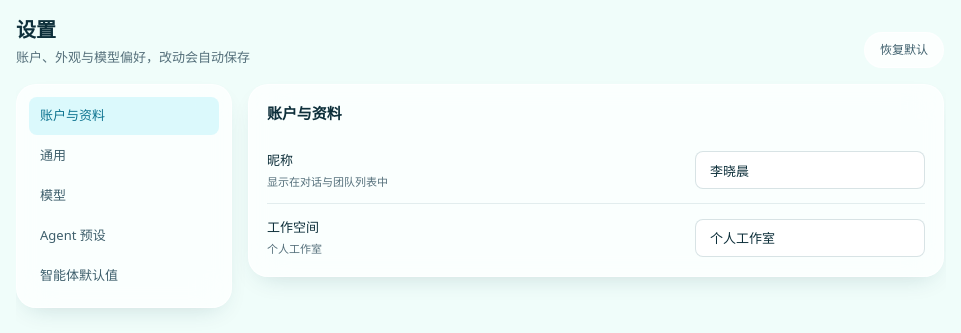
Test: editing a field marks the form dirty and reset clears it
Check: the heading "设置" is shown, box [16, 16, 56, 43]
Check: the button "恢复默认" is disabled, box [864, 32, 944, 68]
Replace the text in the field named "昵称" in the row of "显示在对话与团队列表中" with "张三" at (810, 170), box [695, 151, 925, 189]
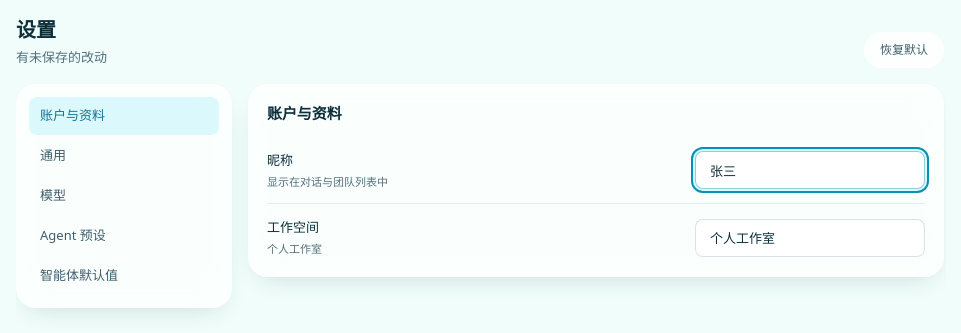
Check: the text "有未保存的改动" is shown, box [16, 48, 107, 66]
Click the button "恢复默认".
click(904, 50)  # box [864, 32, 944, 68]
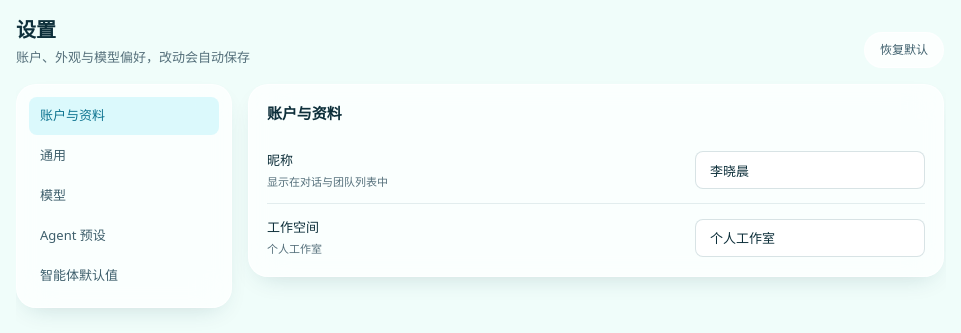
Check: the field named "昵称" in the row of "显示在对话与团队列表中" holds "李晓晨", box [695, 151, 925, 189]
